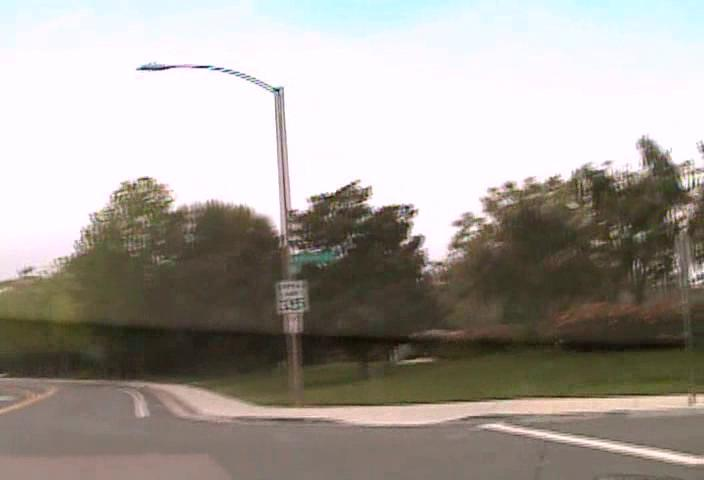speedLimit35: (275, 278, 308, 314)
